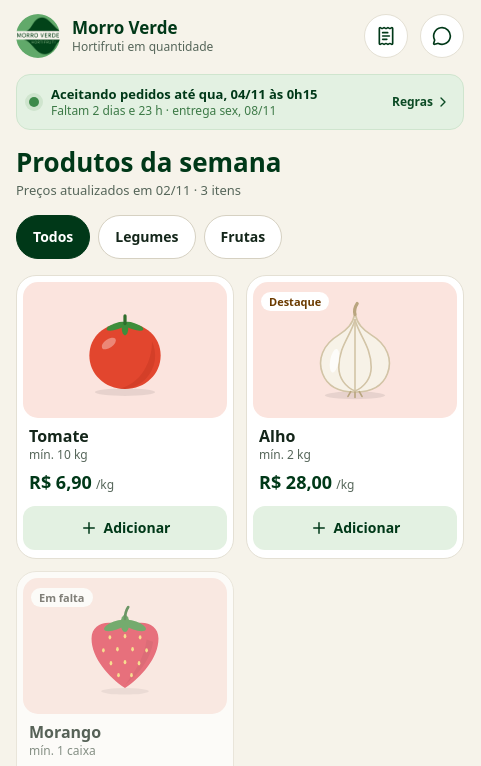
Test: catálogo › filtro marca o botão pressionado
What coordinates should you click on to do the following:
click the button "Frutas"
I would click on:
 (243, 237)
Its box is [204,215,282,259].
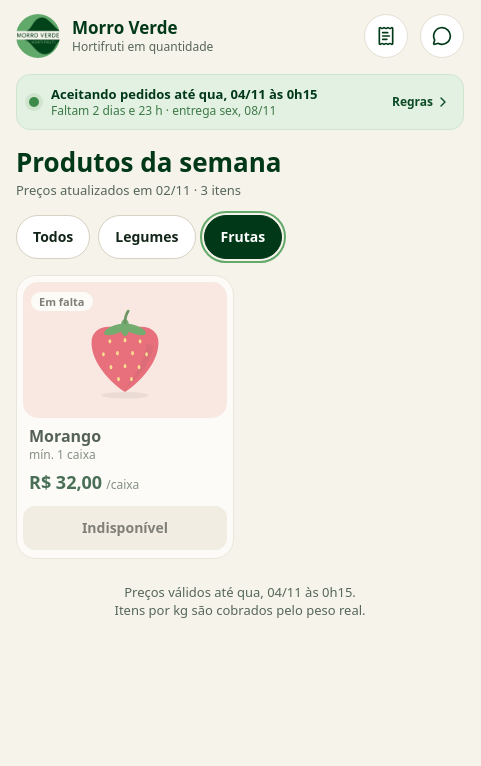
Expected: the link "Tomate" is gone
